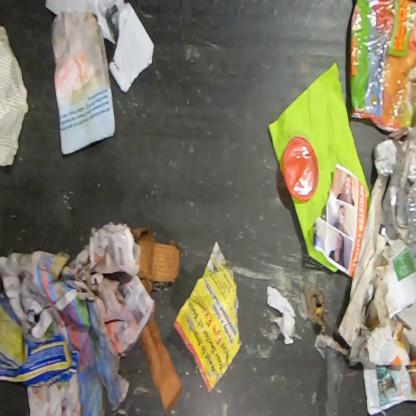cardboard: (0, 290, 81, 388), (139, 313, 183, 415), (130, 226, 181, 297)
rigid_plastic: (280, 135, 320, 203)
soft_plastic: (348, 0, 415, 134), (406, 180, 415, 246)
